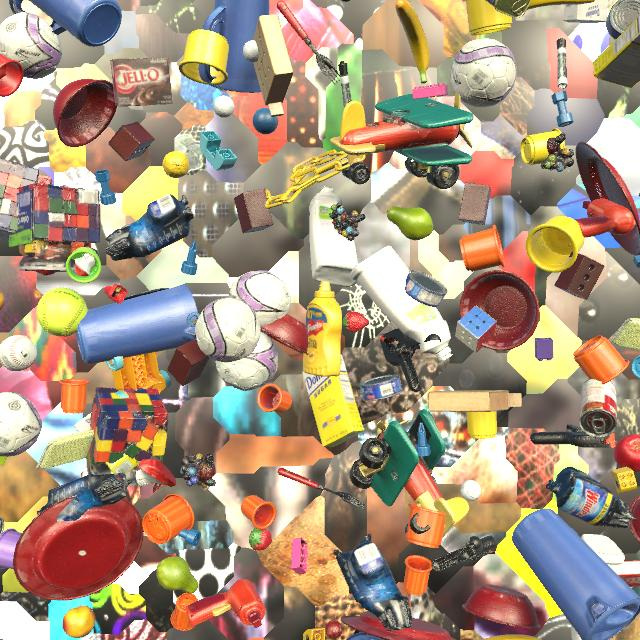ycb_002_master_chef_can: (0, 515, 4, 535)
ycb_004_sugar_box: (302, 354, 365, 447), (74, 413, 140, 475), (593, 16, 640, 88), (563, 0, 608, 23)
ycb_005_tomato_soup_can: (579, 379, 617, 437)
ycb_006_mustard_bottle: (303, 281, 342, 377)
ycb_007_tuna_fish_can: (405, 270, 448, 307), (606, 0, 640, 40), (360, 374, 403, 401)
ycb_008_pudding_box: (110, 58, 173, 106), (639, 193, 640, 196)
ycb_009_gelatin_box: (618, 560, 640, 587)
ycb_010_potted_meat_can: (486, 0, 531, 19)
ycb_011_banana: (395, 0, 430, 84), (527, 0, 595, 10), (484, 634, 541, 640)
ycb_012_strawberry: (343, 311, 369, 332), (249, 528, 272, 550), (34, 270, 57, 276)
ycb_013_apple: (613, 434, 640, 473)
ycb_014_lemon: (162, 151, 189, 178)
ycb_015_peach: (62, 605, 95, 638), (0, 291, 5, 310)
ycb_016_pear: (387, 206, 434, 240), (156, 556, 198, 594)
